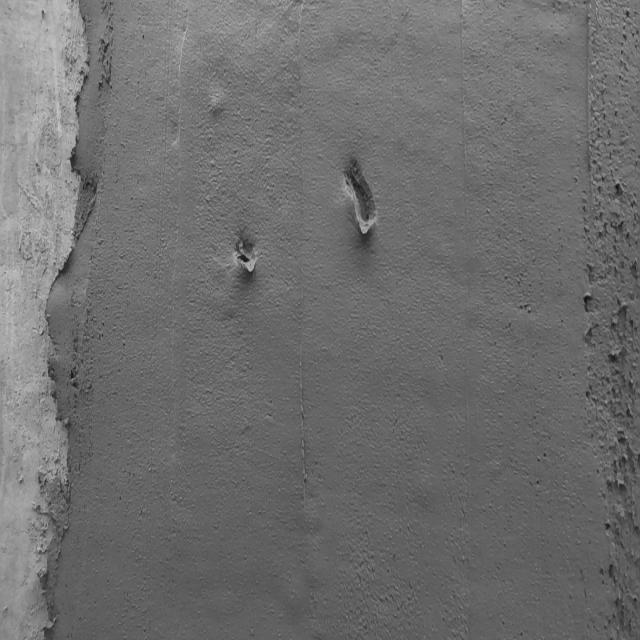trowels marks: (290, 7, 322, 574), (454, 1, 476, 640), (577, 10, 609, 449)
